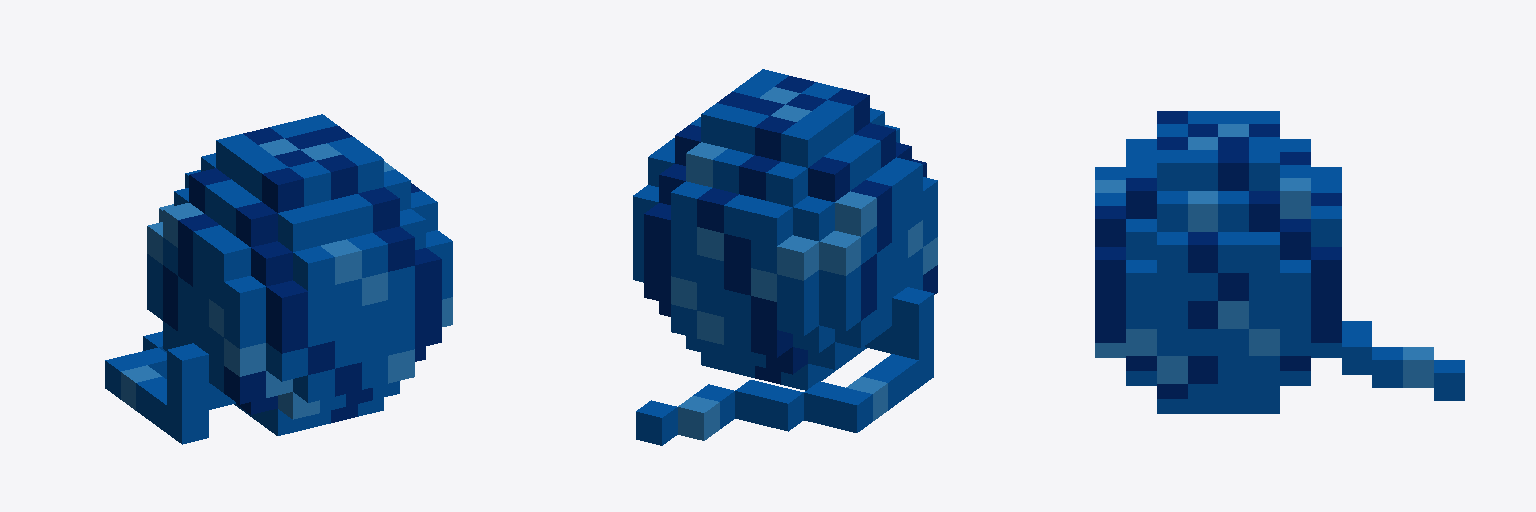
3 views of the same model, side by side, from view 1: azimuth 30°, elevation 25°; view 2: azimuth 150°, elevation 25°; view 3: azimuth 270°, elevation 25° (orthographic).
Size of the model in its own units: 9 by 9 by 12.
1 materials, 1 textured.